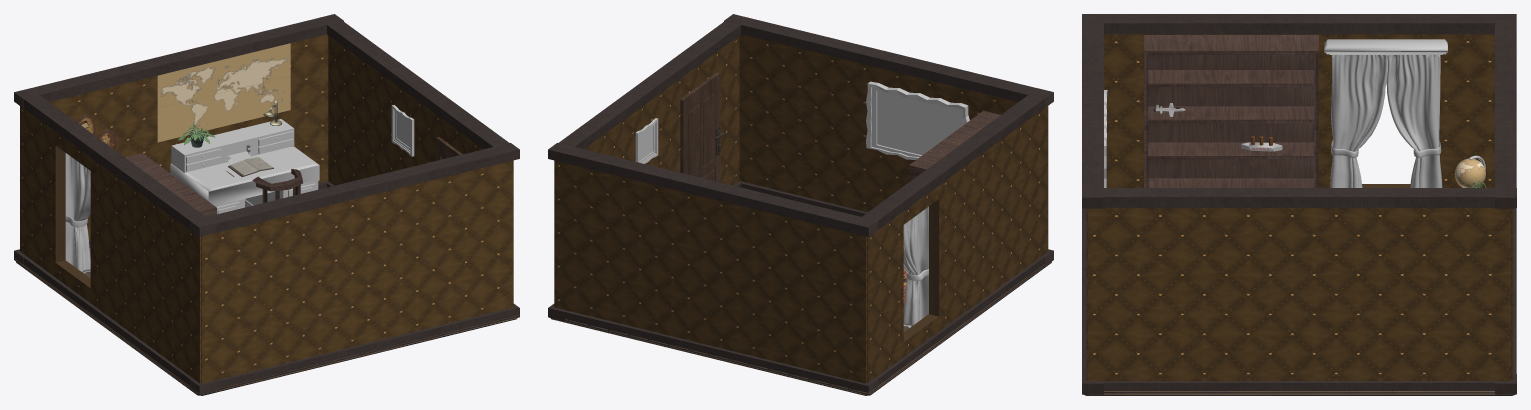
Rendered from 6th RoomTEXTURES.fbx.
3 renders of one model, left to right at view 1: azimuth 30°, elevation 25°; view 2: azimuth 150°, elevation 25°; view 3: azimuth 270°, elevation 25°, orthographic. The views are drawn at different scales.
Parts seen in each view (by area): view 1: 6_Wall4, 6_Wall1, 6_Wall2, 6_Wall3, 6_map, 6_desk, 6_Curtains, 6_Floor, 6_bookshelf, 6_picFrameSquareFancy, 6_chair, 6_book; view 2: 6_Wall2, 6_Wall1, 6_Wall4, 6_Wall3, 6_Picframe3, 6_Door, 6_Curtains, 6_Floor, 6_bookshelf, 6_picFrameSquareFancy; view 3: 6_Wall3, 6_bookshelf, 6_Wall1, 6_Curtains, 6_Wall4, 6_Wall2, 6_Floor, 6_globe, 6_ship.
Boxes of the visible parts, box(x1,y1,x2,y2) form: 6_Wall4: box(190, 143, 519, 395); 6_Wall1: box(14, 88, 215, 395); 6_Wall2: box(14, 14, 343, 266); 6_Wall3: box(327, 21, 508, 187); 6_map: box(157, 43, 290, 142); 6_desk: box(170, 119, 319, 214); 6_Curtains: box(65, 153, 90, 273); 6_Floor: box(14, 248, 518, 395); 6_bookshelf: box(125, 153, 216, 216); 6_picFrameSquareFancy: box(391, 105, 414, 156); 6_chair: box(252, 169, 302, 202); 6_book: box(228, 157, 273, 177); 6_Wall2: box(548, 143, 877, 395); 6_Wall1: box(853, 88, 1053, 387); 6_Wall4: box(724, 14, 1053, 266); 6_Wall3: box(549, 21, 740, 321); 6_Picframe3: box(866, 81, 969, 159); 6_Door: box(680, 72, 723, 182); 6_Curtains: box(903, 206, 928, 327); 6_Floor: box(550, 258, 1053, 395); 6_bookshelf: box(909, 110, 1000, 181); 6_picFrameSquareFancy: box(635, 118, 658, 163); 6_Wall3: box(1088, 188, 1516, 393); 6_bookshelf: box(1144, 35, 1318, 187); 6_Wall1: box(1082, 14, 1516, 209); 6_Curtains: box(1324, 39, 1447, 187); 6_Wall4: box(1082, 23, 1103, 394); 6_Wall2: box(1495, 23, 1516, 394); 6_Floor: box(1084, 391, 1514, 395); 6_globe: box(1454, 158, 1485, 187); 6_ship: box(1241, 136, 1282, 151).
Bounding box in the file's own units: 1000 × 506 × 1001.
